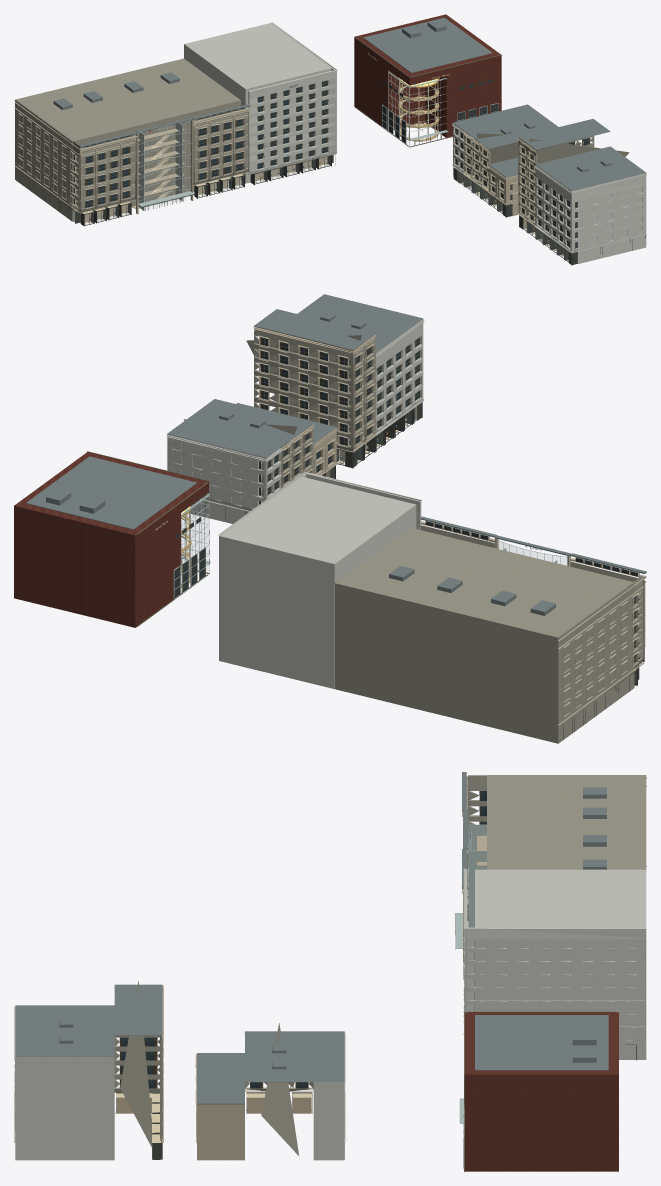
File: square-frontages-lod.glb
3 renders of one model, top to bottom at view 1: azimuth 30°, elevation 25°; view 2: azimuth 150°, elevation 25°; view 3: azimuth 270°, elevation 25°, orthographic. The views are drawn at different scales.
Visible parts, largest first — view 1: Macys Geary / Macy limestone / distant, I Magnin marble corner / Magnin white marble / distant, Neiman Marcus southeast / Neiman checkerboard red granite / , Stockton boutique parcels / Magnin white marble / distant, Stockton boutique parcels / Roof and service metal / distant, Macys Geary / Carved warm limestone / distant, Neiman Marcus southeast / Roof and service metal / distant, Stockton boutique parcels / Macy limestone / distant, Stockton boutique parcels / Carved warm limestone / distant, Macys Geary / Recessed smoked glass / distant, Macys Geary / Pale atrium steel / distant, I Magnin marble corner / Recessed smoked glass / distant (+17 smaller); view 2: Macys Geary / Macy limestone / distant, I Magnin marble corner / Magnin white marble / distant, Neiman Marcus southeast / Neiman checkerboard red granite / , Stockton boutique parcels / Roof and service metal / distant, Stockton boutique parcels / Magnin white marble / distant, Stockton boutique parcels / Macy limestone / distant, Neiman Marcus southeast / Roof and service metal / distant, Stockton boutique parcels / Carved warm limestone / distant, Stockton boutique parcels / Recessed smoked glass / distant, Macys Geary / Carved warm limestone / distant, Stockton boutique parcels / Patinated bronze frames / distan, Macys Geary / Roof and service metal / distant (+4 smaller); view 3: I Magnin marble corner / Magnin white marble / distant, Neiman Marcus southeast / Neiman checkerboard red granite / , Stockton boutique parcels / Roof and service metal / distant, Macys Geary / Macy limestone / distant, Stockton boutique parcels / Magnin white marble / distant, Neiman Marcus southeast / Roof and service metal / distant, Stockton boutique parcels / Macy limestone / distant, Stockton boutique parcels / Carved warm limestone / distant, Macys Geary / Roof and service metal / distant, Macys Geary / Pale atrium steel / distant, Stockton boutique parcels / Retail warm plaster / distant, Stockton boutique parcels / Recessed smoked glass / distant (+1 smaller).
Boxes of the visible parts, x1=… form: Macys Geary / Macy limestone / distant: x1=15, y1=58, x2=248, y2=221; I Magnin marble corner / Magnin white marble / distant: x1=184, y1=22, x2=337, y2=183; Neiman Marcus southeast / Neiman checkerboard red granite / : x1=354, y1=14, x2=501, y2=137; Stockton boutique parcels / Magnin white marble / distant: x1=452, y1=123, x2=646, y2=263; Stockton boutique parcels / Roof and service metal / distant: x1=453, y1=104, x2=646, y2=190; Macys Geary / Carved warm limestone / distant: x1=14, y1=101, x2=250, y2=214; Neiman Marcus southeast / Roof and service metal / distant: x1=363, y1=17, x2=492, y2=72; Stockton boutique parcels / Macy limestone / distant: x1=464, y1=133, x2=629, y2=225; Stockton boutique parcels / Carved warm limestone / distant: x1=463, y1=132, x2=590, y2=226; Macys Geary / Recessed smoked glass / distant: x1=73, y1=108, x2=243, y2=207; Macys Geary / Pale atrium steel / distant: x1=137, y1=120, x2=193, y2=210; I Magnin marble corner / Recessed smoked glass / distant: x1=257, y1=80, x2=327, y2=168; Macys Geary / Macy limestone / distant: x1=335, y1=525, x2=644, y2=743; I Magnin marble corner / Magnin white marble / distant: x1=218, y1=471, x2=421, y2=689; Neiman Marcus southeast / Neiman checkerboard red granite / : x1=14, y1=452, x2=208, y2=627; Stockton boutique parcels / Roof and service metal / distant: x1=167, y1=294, x2=422, y2=457; Stockton boutique parcels / Magnin white marble / distant: x1=166, y1=319, x2=424, y2=523; Stockton boutique parcels / Macy limestone / distant: x1=184, y1=326, x2=375, y2=487; Neiman Marcus southeast / Roof and service metal / distant: x1=26, y1=456, x2=196, y2=529; Stockton boutique parcels / Carved warm limestone / distant: x1=253, y1=326, x2=376, y2=488; Stockton boutique parcels / Recessed smoked glass / distant: x1=259, y1=337, x2=419, y2=504; Macys Geary / Carved warm limestone / distant: x1=421, y1=521, x2=646, y2=725; Stockton boutique parcels / Patinated bronze frames / distan: x1=259, y1=337, x2=419, y2=495; Macys Geary / Roof and service metal / distant: x1=389, y1=516, x2=646, y2=615; I Magnin marble corner / Magnin white marble / distant: x1=463, y1=868, x2=646, y2=1059; Neiman Marcus southeast / Neiman checkerboard red granite / : x1=464, y1=1012, x2=618, y2=1171; Stockton boutique parcels / Roof and service metal / distant: x1=15, y1=984, x2=344, y2=1104; Macys Geary / Macy limestone / distant: x1=467, y1=775, x2=646, y2=869; Stockton boutique parcels / Magnin white marble / distant: x1=14, y1=1006, x2=345, y2=1160; Neiman Marcus southeast / Roof and service metal / distant: x1=475, y1=1015, x2=608, y2=1070; Stockton boutique parcels / Macy limestone / distant: x1=114, y1=981, x2=313, y2=1156; Stockton boutique parcels / Carved warm limestone / distant: x1=114, y1=986, x2=313, y2=1160; Macys Geary / Roof and service metal / distant: x1=462, y1=772, x2=606, y2=888; Macys Geary / Pale atrium steel / distant: x1=455, y1=819, x2=486, y2=948; Stockton boutique parcels / Retail warm plaster / distant: x1=116, y1=1097, x2=311, y2=1158; Stockton boutique parcels / Recessed smoked glass / distant: x1=120, y1=1037, x2=308, y2=1088.
Bounding box in the file's own units: 199 × 52.13 × 185.
22 materials, 5 textured.
